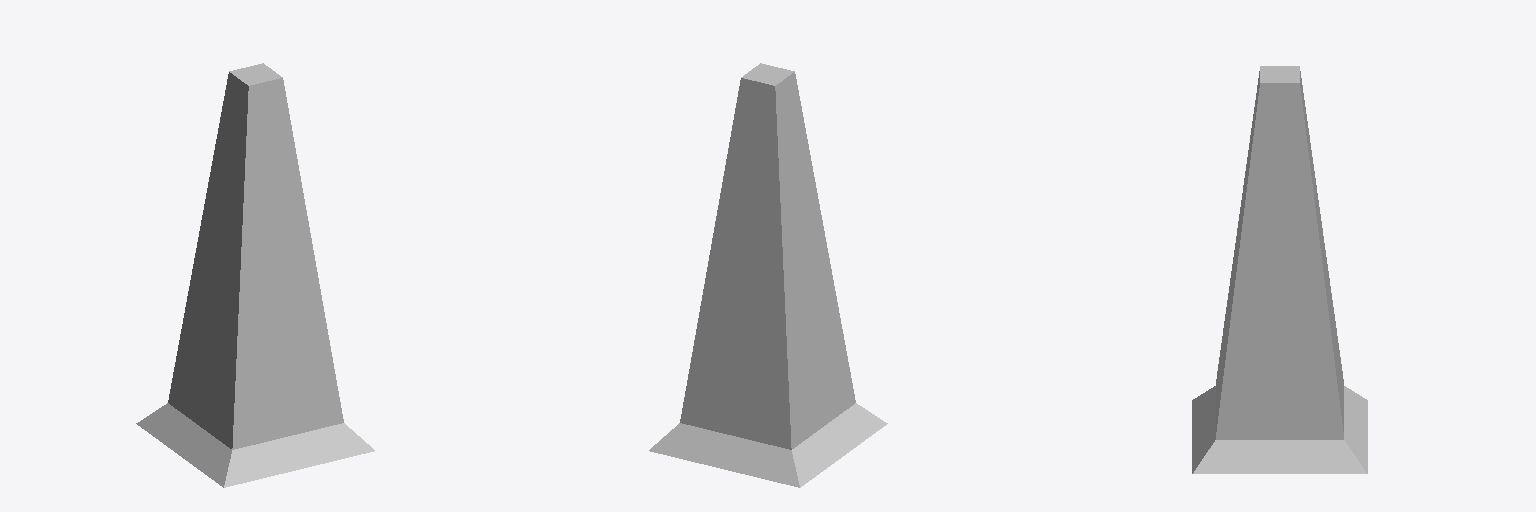
Rendered from bone.obj.
3 views of the same model, side by side, from view 1: azimuth 30°, elevation 25°; view 2: azimuth 150°, elevation 25°; view 3: azimuth 270°, elevation 25° (orthographic).
Visible parts, largest first — view 1: Cube.001; view 2: Cube.001; view 3: Cube.001.
Boxes of the visible parts, <box> form: Cube.001: <box>136,63,374,487</box>; Cube.001: <box>649,63,887,487</box>; Cube.001: <box>1192,66,1367,473</box>.
Size of the model in its own units: 0.0644 by 0.1467 by 0.0644.